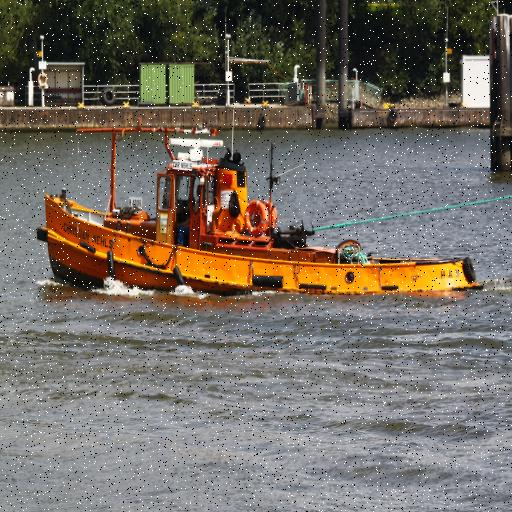tugboat: (37, 116, 489, 320)
